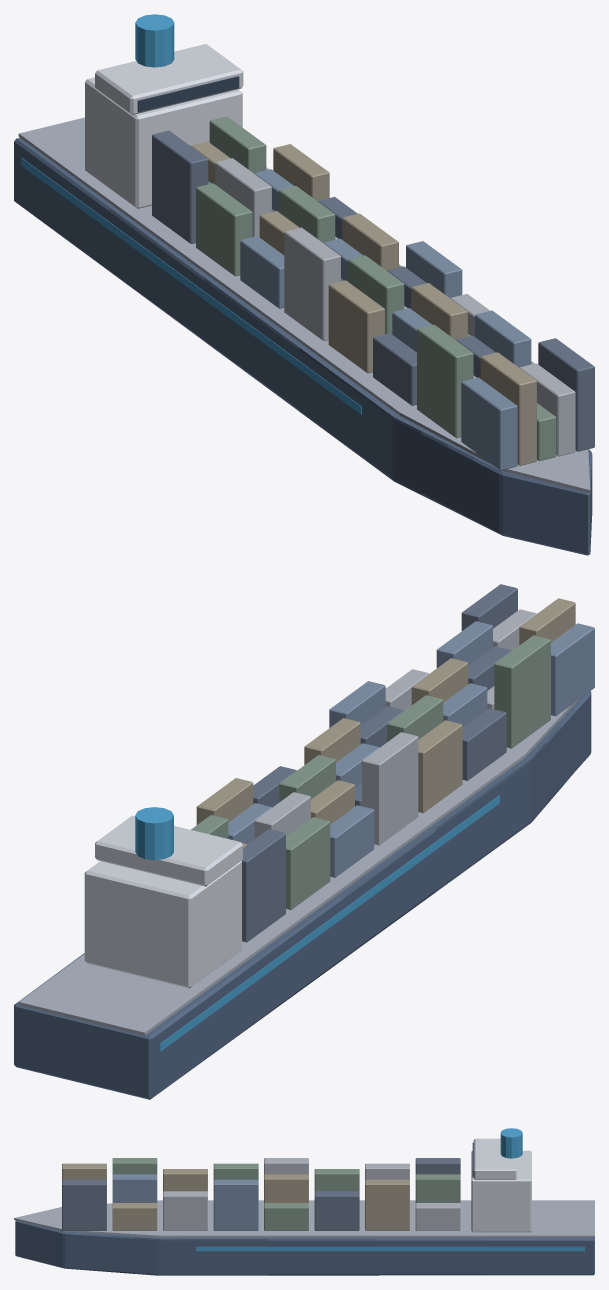
Rendered from container_ship.glb.
3 views of the same model, one above another, from view 1: azimuth 30°, elevation 25°; view 2: azimuth 150°, elevation 25°; view 3: azimuth 270°, elevation 25° (orthographic). The views are drawn at different scales.
Visible parts, largest first — view 1: container_ship; view 2: container_ship; view 3: container_ship.
Part boxes in pixels (x1=…): container_ship: x1=14, y1=14, x2=594, y2=555; container_ship: x1=14, y1=584, x2=594, y2=1099; container_ship: x1=14, y1=1128, x2=594, y2=1275.
Size of the model in its own units: 18.22 by 27 by 115.
